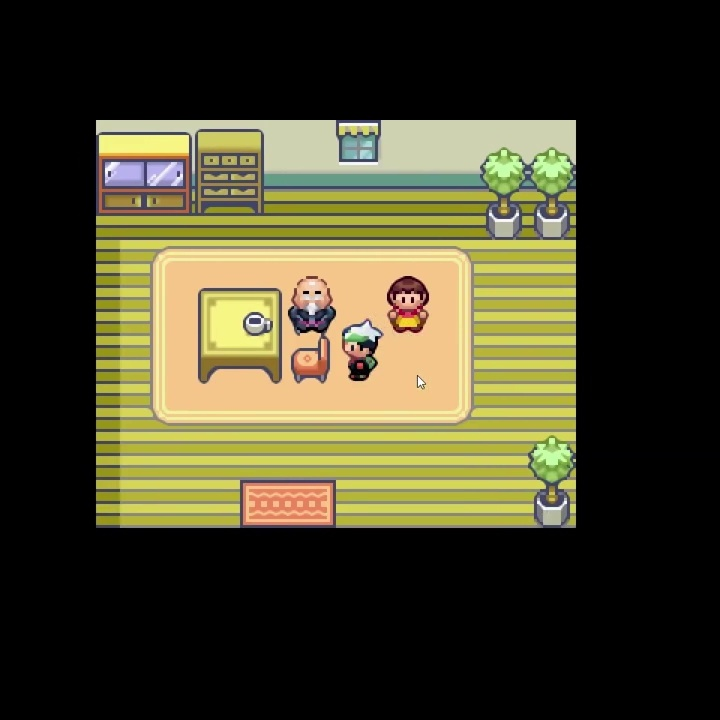exit: (237, 475, 339, 583)
npc: (286, 274, 338, 335), (383, 273, 431, 334), (339, 316, 384, 381)
